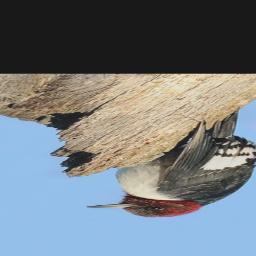Woodpecker: (84, 110, 256, 218)
